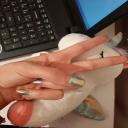PeaceSign: (0, 34, 128, 101)
